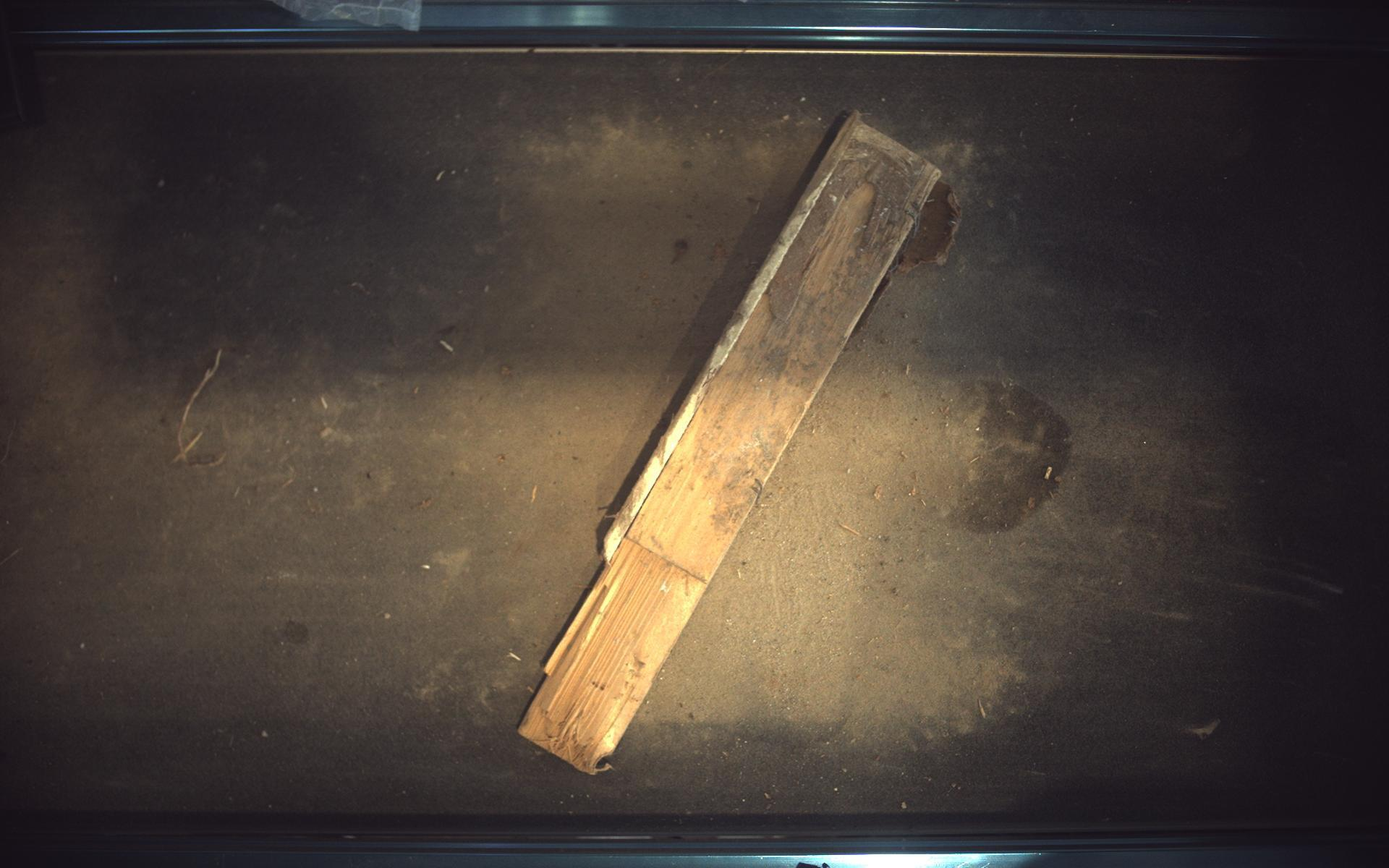wood: (519, 111, 961, 775)
